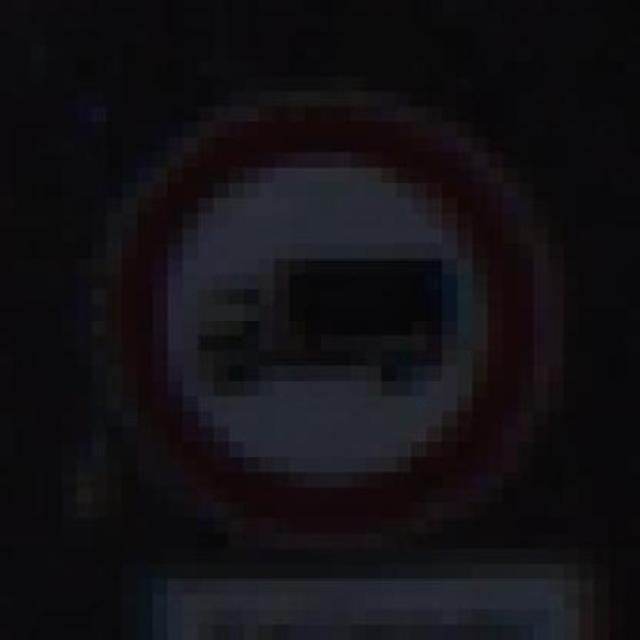Truck traffic is prohibited: (76, 61, 564, 564)
